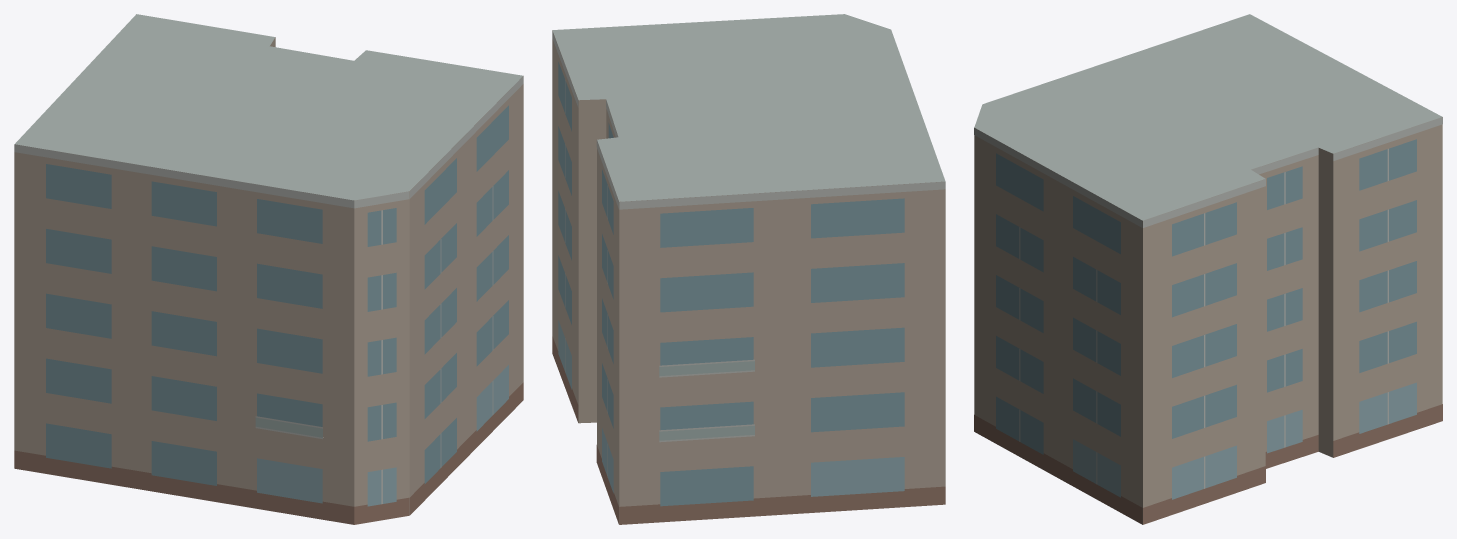
File: survey-upis-32995086.glb
3 renders of one model, left to right at view 1: azimuth 30°, elevation 25°; view 2: azimuth 150°, elevation 25°; view 3: azimuth 270°, elevation 25°, orthographic. The views are drawn at different scales.
Visible parts, largest first — view 1: survey-upis-32995086.tmp; view 2: survey-upis-32995086.tmp; view 3: survey-upis-32995086.tmp.
Boxes of the visible parts, left/top/right/bottom form: survey-upis-32995086.tmp: left=14, top=14, right=523, bottom=524; survey-upis-32995086.tmp: left=552, top=14, right=945, bottom=524; survey-upis-32995086.tmp: left=974, top=14, right=1442, bottom=524.
Bounding box in the file's own units: 14.59 × 10 × 13.97.
